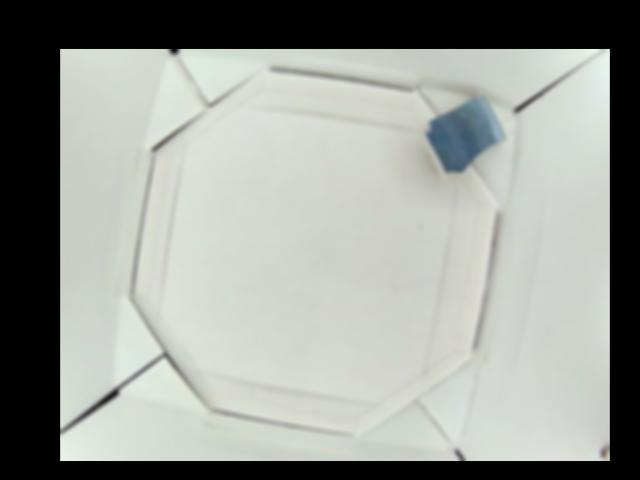China: (423, 95, 505, 176)
